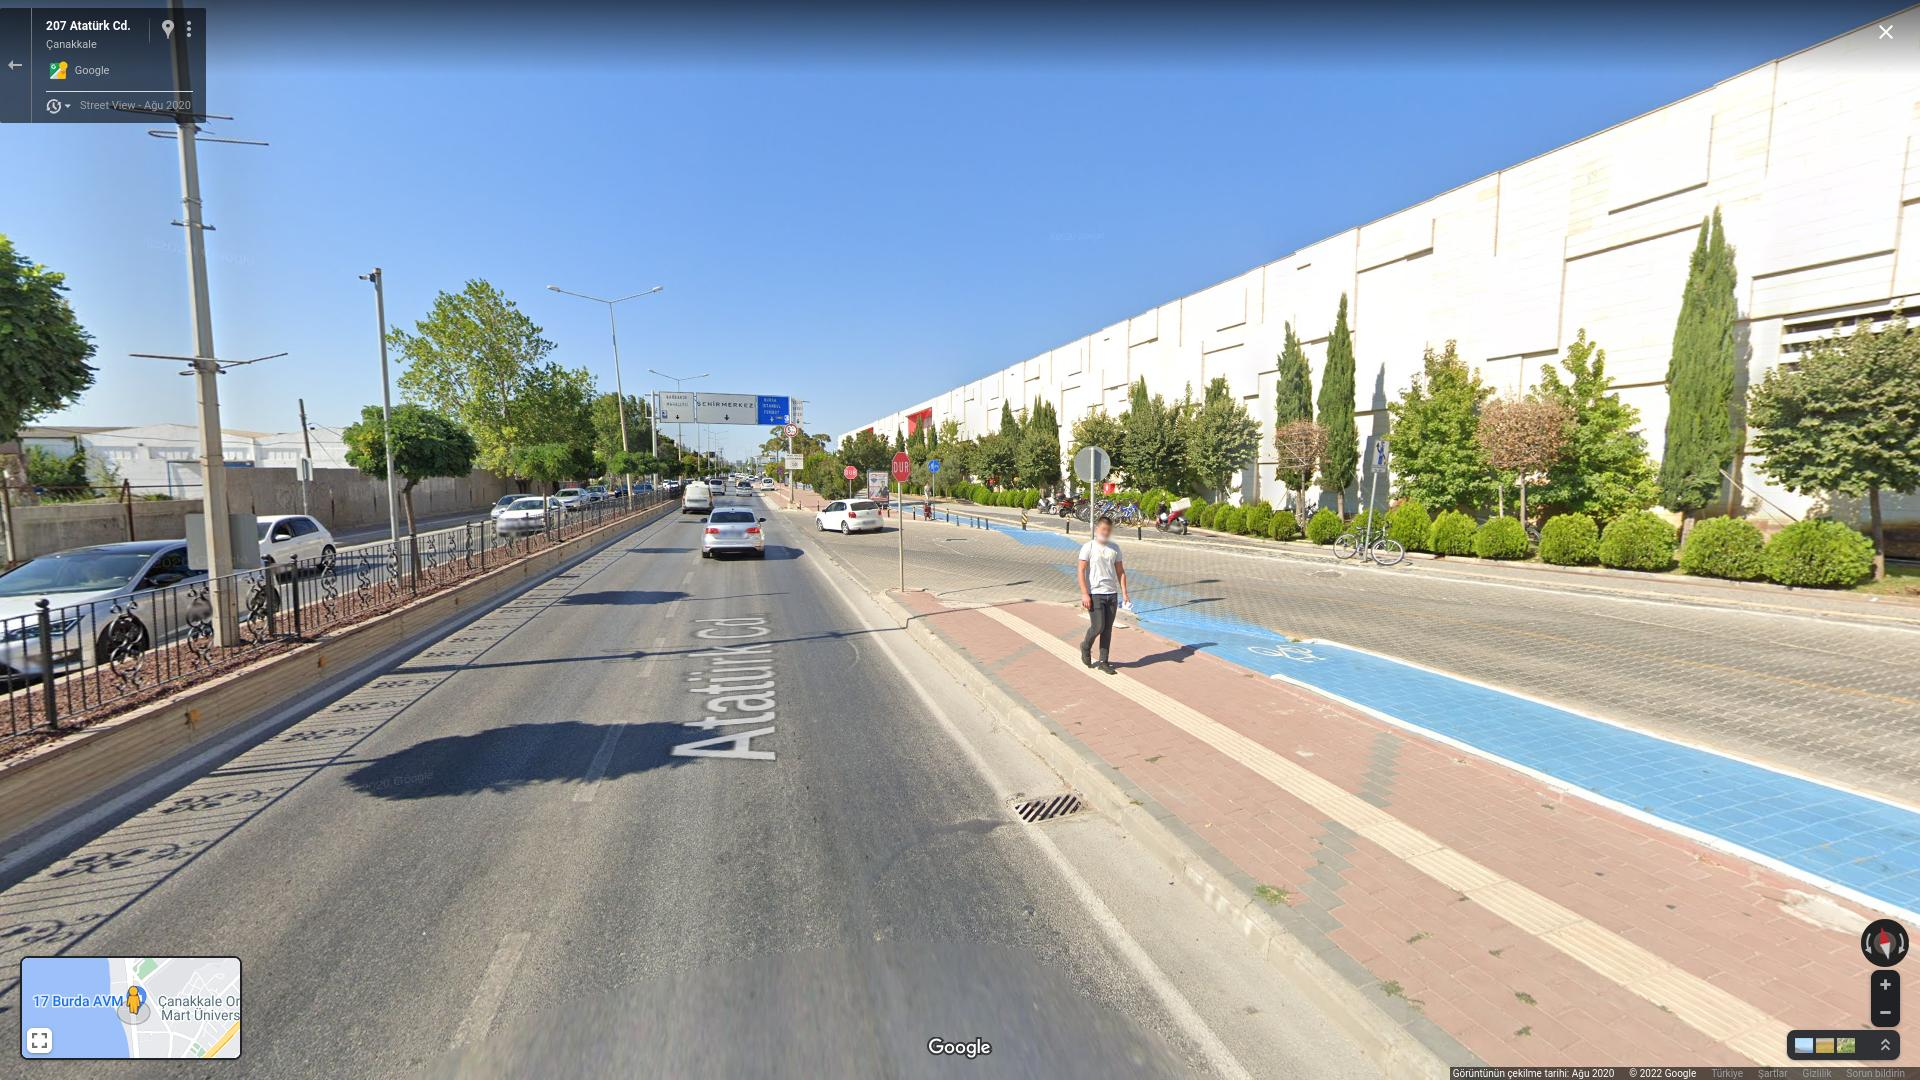stop: (890, 451, 911, 483), (844, 465, 857, 479)
